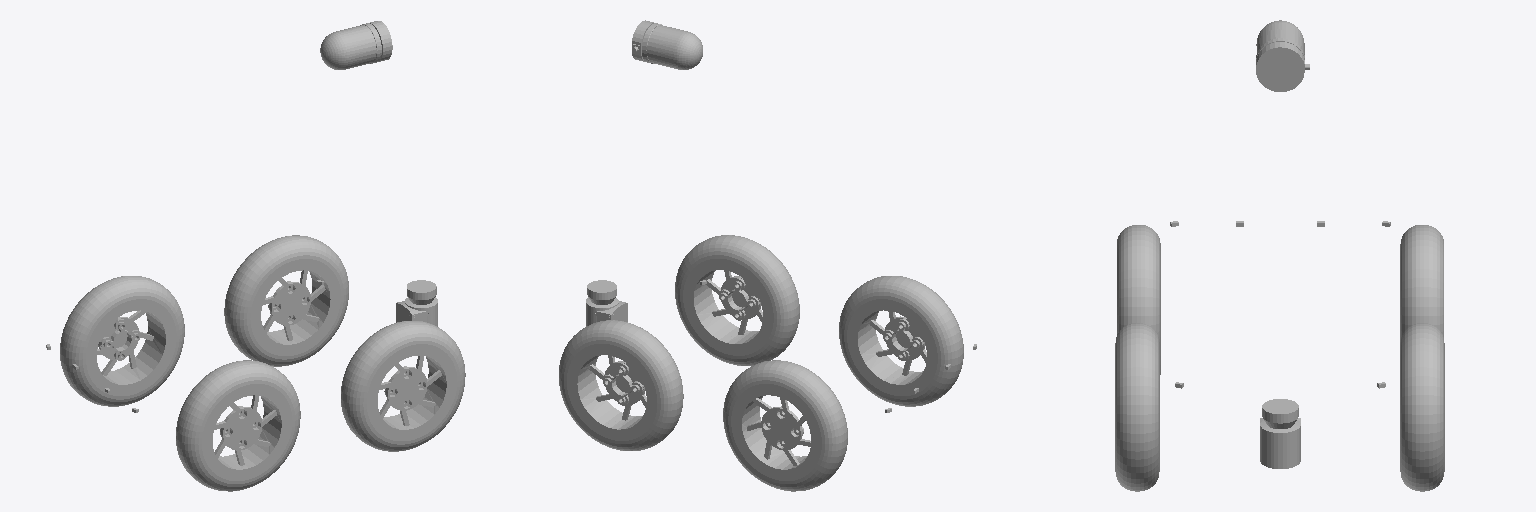
URDF robot description (af):
<robot name="af">

  <link name="base_footprint">
    <visual>
      <origin
        xyz="0 0 0.2984495120400078"
        rpy="1.5707963267949 0 1.5707963267949" />
      <geometry>
        <mesh
          filename="package://af_bringup/meshes/base_footprint.STL" />
      </geometry>
      <material
        name="">
        <color
          rgba="0.752941176470588 0.752941176470588 0.752941176470588 1" />
      </material>
    </visual>
  </link>

  <link name="base_link">
    <visual>
      <origin
        xyz="0 0 0"
        rpy="1.5707963267949 0 1.5707963267949" />
      <geometry>
        <mesh
          filename="package://af_bringup/meshes/base_footprint.STL" />
      </geometry>
      <material
        name="">
        <color
          rgba="0.752941176470588 0.752941176470588 0.752941176470588 1" />
      </material>
    </visual>
  </link>
  <joint
    name="base_link_joint"
    type="fixed">
    <origin
      xyz="0 0 0.2984495120400078"
      rpy="0 0 0" />
    <parent
      link="base_footprint" />
    <child
      link="base_link" />
    <axis
      xyz="0 0 0" />
  </joint>
  
  <link name="laser">
    <visual>
      <origin
        xyz="0 0 0"
        rpy="0 0 1.5707963267949" />
      <geometry>
        <mesh
          filename="package://af_bringup/meshes/laser.STL" />
      </geometry>
      <material
        name="">
        <color
          rgba="0.752941176470588 0.752941176470588 0.752941176470588 1" />
      </material>
    </visual>
  </link>
  <joint
    name="laser_joint"
    type="fixed">
    <origin
      xyz="0.63779 0 0.040"
      rpy="0 0 0" />
    <parent
      link="base_link" />
    <child
      link="laser" />
    <axis
      xyz="0 0 0" />
  </joint>



  <link name="wheel1">
    <visual>
      <origin
        xyz="0 0 0"
        rpy="1.5707963267949 0 0" />
      <geometry>
        <mesh
          filename="package://af_bringup/meshes/wheel1.STL" />
      </geometry>
      <material
        name="">
        <color
          rgba="0.752941176470588 0.752941176470588 0.752941176470588 1" />
      </material>
    </visual>
  </link>
  <joint
    name="base_wheel1"
    type="fixed">
    <origin
      xyz="0.36689 0.353838628838196 -0.0884495120400078"
      rpy="0 0 0" />
    <parent
      link="base_link" />
    <child
      link="wheel1" />
    <axis
      xyz="0 0 0" />
  </joint>



  <link name="wheel2">
    <visual>
      <origin
        xyz="0 0 0"
        rpy="1.5707963267949 0 0" />
      <geometry>
        <mesh
          filename="package://af_bringup/meshes/wheel2.STL" />
      </geometry>
      <material
        name="">
        <color
          rgba="0.752941176470588 0.752941176470588 0.752941176470588 1" />
      </material>
    </visual>
  </link>
  <joint
    name="base_wheel2"
    type="fixed">
    <origin
      xyz="-0.21311 0.353805715763312 -0.0884495120400076"
      rpy="0 0 0" />
    <parent
      link="base_link" />
    <child
      link="wheel2" />
    <axis
      xyz="0 0 0" />
  </joint>



  <link name="wheel3">
    <visual>
      <origin
        xyz="0 0 0"
        rpy="-1.5707963267949 0 0" />
      <geometry>
        <mesh
          filename="package://af_bringup/meshes/wheel3.STL" />
      </geometry>
      <material
        name="">
        <color
          rgba="0.752941176470588 0.752941176470588 0.752941176470588 1" />
      </material>
    </visual>
  </link>
  <joint
    name="base_wheel3"
    type="fixed">
    <origin
      xyz="0.36689 -0.356514177677096 -0.0884495120400078"
      rpy="0 0 0" />
    <parent
      link="base_link" />
    <child
      link="wheel3" />
    <axis
      xyz="0 0 0" />
  </joint>



  <link name="wheel4">
    <visual>
      <origin
        xyz="0 0 0"
        rpy="-1.5707963267949 0 0" />
      <geometry>
        <mesh
          filename="package://af_bringup/meshes/wheel4.STL" />
      </geometry>
      <material
        name="">
        <color
          rgba="0.752941176470588 0.752941176470588 0.752941176470588 1" />
      </material>
    </visual>
  </link>
  <joint
    name="base_wheel4"
    type="fixed">
    <origin
      xyz="-0.21311 -0.353805715763312 -0.0884495120400078"
      rpy="0 0 0" />
    <parent
      link="base_link" />
    <child
      link="wheel4" />
    <axis
      xyz="0 0 0" />
  </joint>



  <link name="Stereo">
    <visual>
      <origin
        xyz="0 0 0"
        rpy="0 1.57 0" />
      <geometry>
        <mesh
          filename="package://af_bringup/meshes/camera.STL" />
      </geometry>
      <material
        name="">
        <color
          rgba="0.752941176470588 0.752941176470588 0.752941176470588 1" />
      </material>
    </visual>
  </link>
  <joint
    name="base_camera"
    type="fixed">
    <origin
      xyz="0.5 0 0.902"
      rpy="0 0 0" />
    <parent
      link="base_link" />
    <child
      link="Stereo" />
    <axis
      xyz="0 0 0" />
  </joint>

  <link name="range1">
    <visual>
      <origin
        xyz="0 0 0"
        rpy="0 0 0" />
      <geometry>
        <box size="0.01 0.02 0.01"/>
      </geometry>
      <material
        name="">
        <color
          rgba="0.752941176470588 0.752941176470588 0.752941176470588 1" />
      </material>
    </visual>
  </link>
  <joint
    name="base_range1"
    type="fixed">
    <origin
      xyz=" 0.4265 -0.25289 0.0"
      rpy="0 0 -0.436332313" />
    <parent
      link="base_link" />
    <child
      link="range1" />
    <axis
      xyz="0 0 0" />
  </joint>

  <link name="range2">
    <visual>
      <origin
        xyz="0 0 0"
        rpy="0 0 0" />
      <geometry>
        <box size="0.01 0.02 0.01"/>
      </geometry>
      <material
        name="">
        <color
          rgba="0.752941176470588 0.752941176470588 0.752941176470588 1" />
      </material>
    </visual>
  </link>
  <joint
    name="base_range2"
    type="fixed">
    <origin
      xyz="0.4265 0.25289 0.0"
      rpy="0 0 0.436332313" />
    <parent
      link="base_link" />
    <child
      link="range2" />
    <axis
      xyz="0 0 0" />
  </joint>

  <link name="range5">
    <visual>
      <origin
        xyz="0 0 0"
        rpy="0 0 0" />
      <geometry>
        <box size="0.01 0.02 0.01"/>
      </geometry>
      <material
        name="">
        <color
          rgba="0.752941176470588 0.752941176470588 0.752941176470588 1" />
      </material>
    </visual>
  </link>
  <joint
    name="base_range5"
    type="fixed">
    <origin
      xyz="-0.525 0.264 0.0"
      rpy="0 0 2.809980096" />
    <parent
      link="base_link" />
    <child
      link="range5" />
    <axis
      xyz="0 0 0" />
  </joint>

  <link name="range4">
    <visual>
      <origin
        xyz="0 0 0"
        rpy="0 0 0" />
      <geometry>
        <box size="0.01 0.02 0.01"/>
      </geometry>
      <material
        name="">
        <color
          rgba="0.752941176470588 0.752941176470588 0.752941176470588 1" />
      </material>
    </visual>
  </link>
  <joint
    name="base_range4"
    type="fixed">
    <origin
      xyz="-0.525 0.100 0.0"
      rpy="0 0 3.1415926" />
    <parent
      link="base_link" />
    <child
      link="range4" />
    <axis
      xyz="0 0 0" />
  </joint>

  <link name="range6">
    <visual>
      <origin
        xyz="0 0 0"
        rpy="0 0 0" />
      <geometry>
        <box size="0.01 0.02 0.01"/>
      </geometry>
      <material
        name="">
        <color
          rgba="0.752941176470588 0.752941176470588 0.752941176470588 1" />
      </material>
    </visual>
  </link>
  <joint
    name="base_range6"
    type="fixed">
    <origin
      xyz="-0.525 -0.100 0.0"
      rpy="0 0 3.1415926" />
    <parent
      link="base_link" />
    <child
      link="range6" />
    <axis
      xyz="0 0 0" />
  </joint>

  <link name="range7">
    <visual>
      <origin
        xyz="0 0 0"
        rpy="0 0 0" />
      <geometry>
        <box size="0.01 0.02 0.01"/>
      </geometry>
      <material
        name="">
        <color
          rgba="0.752941176470588 0.752941176470588 0.752941176470588 1" />
      </material>
    </visual>
  </link>
  <joint
    name="base_range7"
    type="fixed">
    <origin
      xyz="-0.525 -0.264 0.0"
      rpy="0 0 3.473205211" />
    <parent
      link="base_link" />
    <child
      link="range7" />
    <axis
      xyz="0 0 0" />
  </joint>


</robot>


--- Facts derived from the render (not from the file) ---
Views: 3 orthographic renders of the robot side by side, from view 1: azimuth 30°, elevation 25°; view 2: azimuth 150°, elevation 25°; view 3: azimuth 270°, elevation 25°.
Robot: af — 14 links, 13 joints (13 fixed); root link base_footprint; default pose: every joint at zero.
Links seen in each view (by area): view 1: wheel4, wheel3, wheel1, wheel2, Stereo, laser; view 2: wheel2, wheel1, wheel3, wheel4, Stereo, laser; view 3: wheel1, wheel3, wheel4, wheel2, Stereo, laser.
Link boxes in pixels (x1,y1,x2,y2): wheel4: (176, 360, 300, 491); wheel3: (341, 321, 465, 451); wheel1: (224, 235, 348, 366); wheel2: (60, 276, 184, 406); Stereo: (320, 21, 392, 69); laser: (396, 280, 437, 326); wheel2: (723, 360, 847, 491); wheel1: (559, 320, 683, 450); wheel3: (675, 235, 799, 365); wheel4: (839, 276, 963, 406); Stereo: (632, 20, 702, 69); laser: (586, 280, 627, 325); wheel1: (1400, 323, 1444, 491); wheel3: (1115, 323, 1159, 491); wheel4: (1117, 225, 1160, 374); wheel2: (1400, 225, 1443, 341); Stereo: (1256, 20, 1309, 91); laser: (1260, 399, 1300, 468).
Bounding box of the posed robot: 1.22 × 0.8204 × 1.26 m (x, y, z).
Meshes: 7 distinct files referenced, 6 mesh visuals loaded (6 binary STL); not drawn: 2 (reference not matched to a file when rendering).